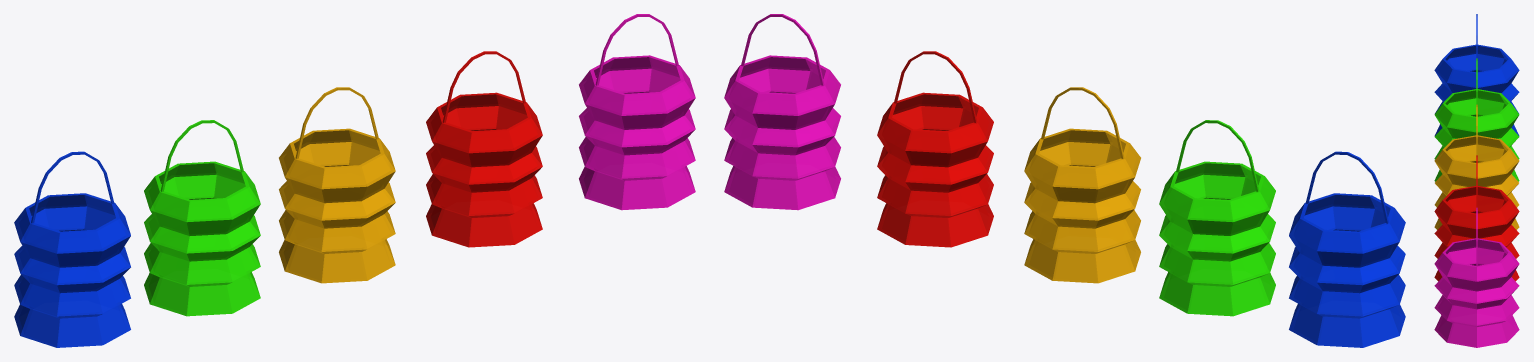
The model's file is โคมไฟ.fbx.
3 views of the same model, side by side, from view 1: azimuth 30°, elevation 25°; view 2: azimuth 150°, elevation 25°; view 3: azimuth 270°, elevation 25° (orthographic). The views are drawn at different scales.
Visible parts, largest first — view 1: Cylinder.002, Cylinder.001, Cylinder.004, Cylinder.003, Cylinder; view 2: Cylinder.002, Cylinder.001, Cylinder.004, Cylinder.003, Cylinder; view 3: Cylinder, Cylinder.001, Cylinder.002, Cylinder.003, Cylinder.004.
Part boxes in pixels (x1=…): Cylinder.002: x1=279, y1=87, x2=395, y2=283; Cylinder.001: x1=426, y1=51, x2=542, y2=247; Cylinder.004: x1=14, y1=151, x2=130, y2=347; Cylinder.003: x1=144, y1=120, x2=260, y2=316; Cylinder: x1=579, y1=14, x2=695, y2=210; Cylinder.002: x1=1024, y1=87, x2=1140, y2=283; Cylinder.001: x1=877, y1=51, x2=993, y2=247; Cylinder.004: x1=1289, y1=151, x2=1405, y2=347; Cylinder.003: x1=1159, y1=120, x2=1275, y2=316; Cylinder: x1=724, y1=14, x2=840, y2=210; Cylinder: x1=1434, y1=207, x2=1519, y2=347; Cylinder.001: x1=1434, y1=155, x2=1519, y2=281; Cylinder.002: x1=1434, y1=104, x2=1519, y2=229; Cylinder.003: x1=1434, y1=58, x2=1519, y2=181; Cylinder.004: x1=1434, y1=14, x2=1519, y2=135.
Size of the model in its own units: 1276 by 311 by 200.
